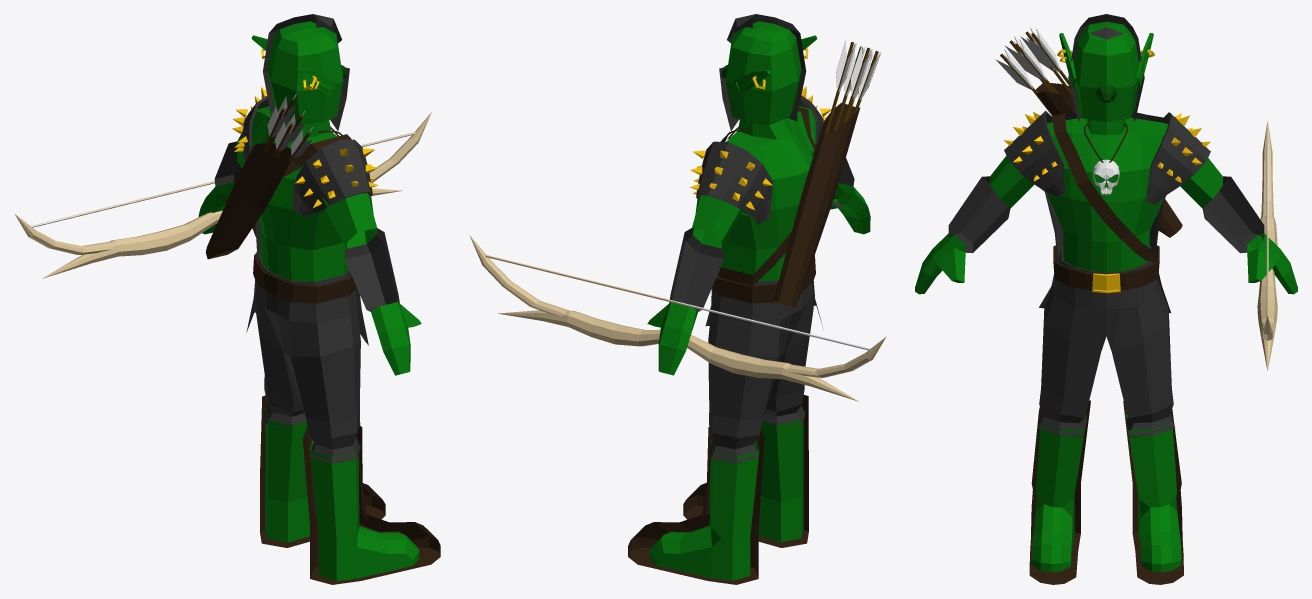
Rendered from GoblinArcher.fbx.
The picture shows the model from 3 angles, left to right: view 1: azimuth 30°, elevation 25°; view 2: azimuth 150°, elevation 25°; view 3: azimuth 270°, elevation 25°; orthographic projection. The views are drawn at different scales.
Parts seen in each view (by area): view 1: Body.001, Trousers.001, ShoulderPads.001, Bow.002, Quiver.001, Boot2.001, WaistBelt.001, Tunic.001, Arrows.001, Boot1.001, Plane.002, Ears.001; view 2: Body.001, Trousers.001, Bow.002, Quiver.001, ShoulderPads.001, Boot1.001, Arrows.001, Boot2.001, Tunic.001, WaistBelt.001, Plane.002, Ears.001; view 3: Body.001, Trousers.001, ShoulderPads.001, Bow.002, Tunic.001, Plane.002, Arrows.001, WaistBelt.001, Boot2.001, Boot1.001, Quiver.001, Necklace.001 (+1 smaller).
Part boxes in pixels (x1,y1,x2,y2): Body.001: (198, 21, 421, 581); Trousers.001: (255, 256, 360, 463); ShoulderPads.001: (232, 87, 378, 216); Bow.002: (15, 112, 431, 278); Quiver.001: (205, 143, 291, 259); Boot2.001: (302, 425, 440, 584); WaistBelt.001: (253, 253, 356, 303); Tunic.001: (246, 14, 368, 345); Arrows.001: (263, 93, 312, 164); Boot1.001: (260, 395, 385, 547); Plane.002: (252, 134, 351, 237); Ears.001: (251, 35, 335, 96); Body.001: (647, 21, 870, 580); Trousers.001: (708, 274, 813, 463); Bow.002: (469, 235, 886, 401); Quiver.001: (773, 102, 860, 307); ShoulderPads.001: (689, 86, 831, 224); Boot1.001: (628, 426, 764, 584); Arrows.001: (783, 40, 880, 265); Boot2.001: (683, 395, 808, 547); Tunic.001: (705, 14, 822, 327); WaistBelt.001: (712, 255, 815, 303); Plane.002: (718, 107, 815, 285); Ears.001: (733, 35, 817, 96); Body.001: (915, 21, 1297, 572); Trousers.001: (1038, 246, 1174, 436); ShoulderPads.001: (1004, 110, 1210, 204); Bow.002: (1257, 121, 1277, 370); Tunic.001: (1039, 14, 1170, 312); Plane.002: (1051, 113, 1156, 262); Arrows.001: (995, 28, 1071, 101); WaistBelt.001: (1053, 245, 1159, 293); Boot2.001: (1029, 400, 1090, 584); Boot1.001: (1123, 401, 1183, 584); Quiver.001: (1034, 83, 1182, 237); Necklace.001: (1084, 123, 1127, 195).
Bounding box in the file's own units: 439 × 539 × 363.
